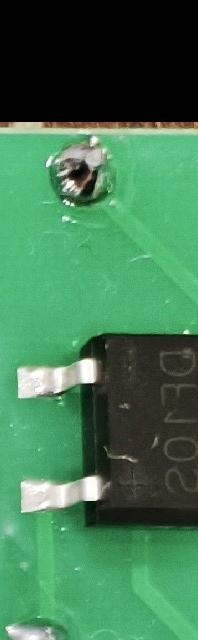ic: (9, 328, 198, 533)
